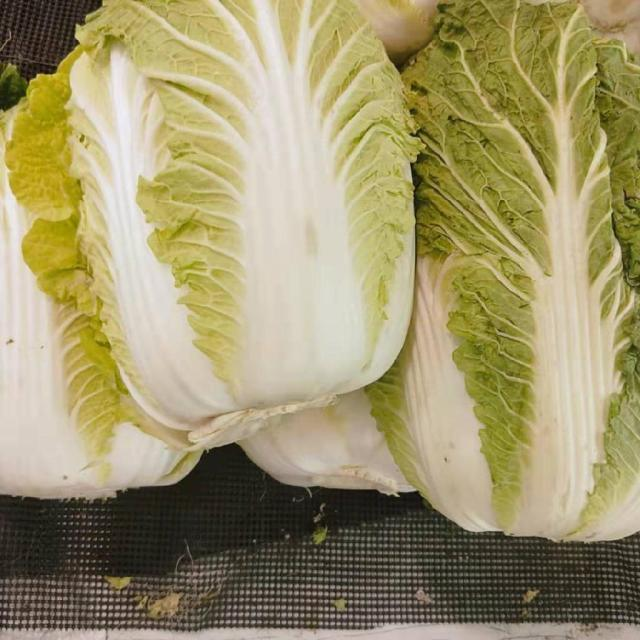-Kitchen waste - vegetable roots and leaves-: (64, 4, 408, 426), (422, 16, 640, 543)
